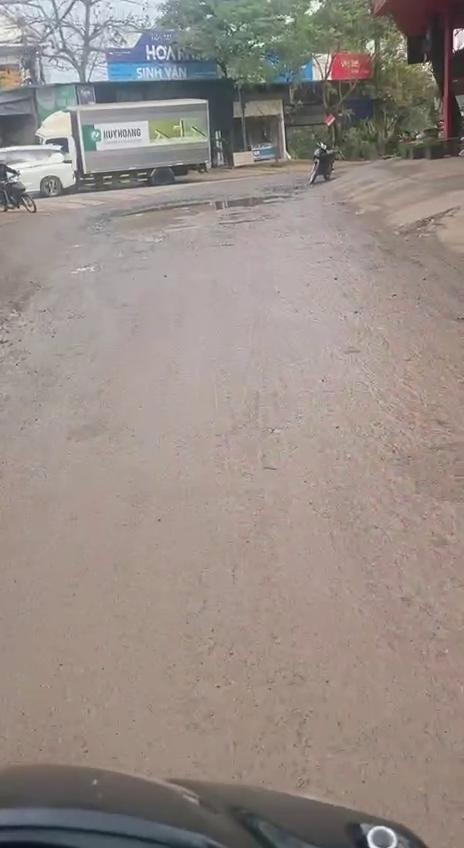pothole: (102, 194, 288, 239)
